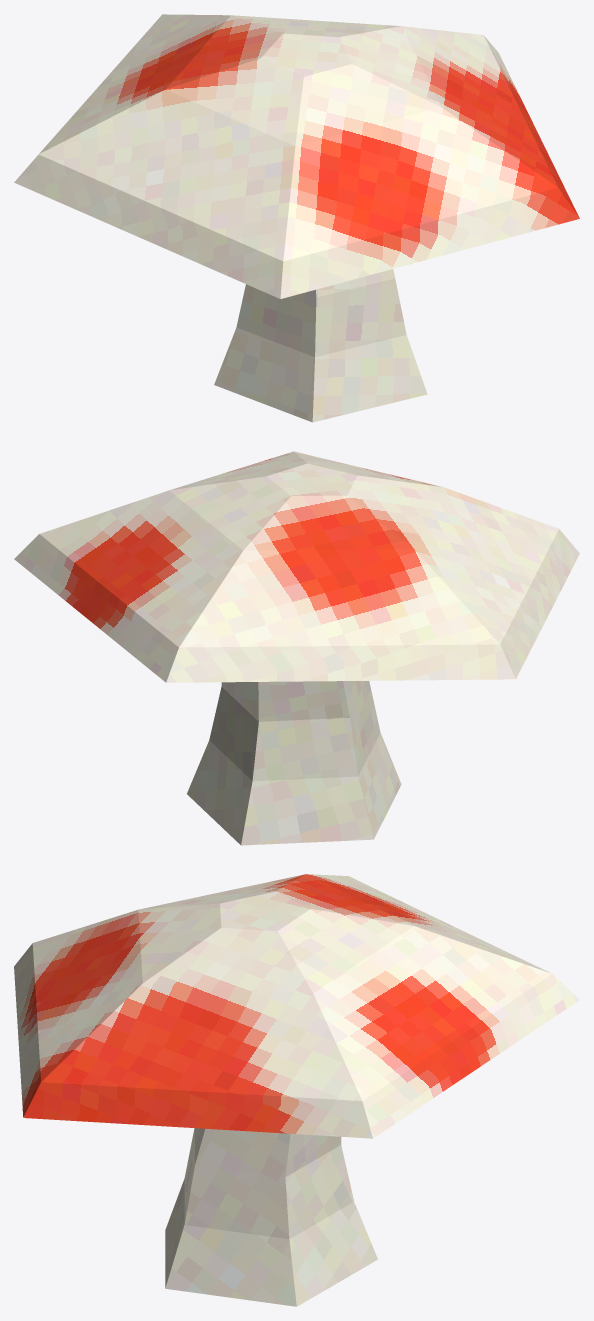
The model's file is mushroom.glb.
The picture shows the model from 3 angles, top to bottom: view 1: azimuth 30°, elevation 25°; view 2: azimuth 150°, elevation 25°; view 3: azimuth 270°, elevation 25°; orthographic projection. The views are drawn at different scales.
Visible parts, largest first — view 1: Mushroom; view 2: Mushroom; view 3: Mushroom.
Part boxes in pixels (<box>): Mushroom: <box>14,14,579,422</box>; Mushroom: <box>14,451,579,845</box>; Mushroom: <box>14,874,579,1306</box>.
Size of the model in its own units: 4.26 by 2.72 by 4.07.
1 material, 1 textured.
